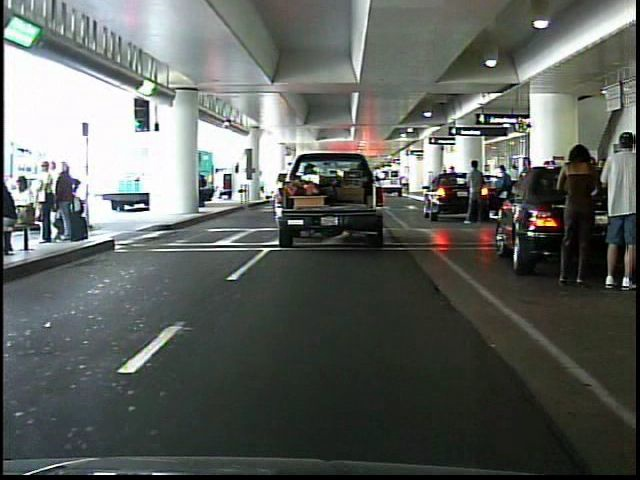person: (554, 134, 605, 292), (590, 125, 637, 291), (460, 154, 490, 229), (487, 161, 515, 228)
